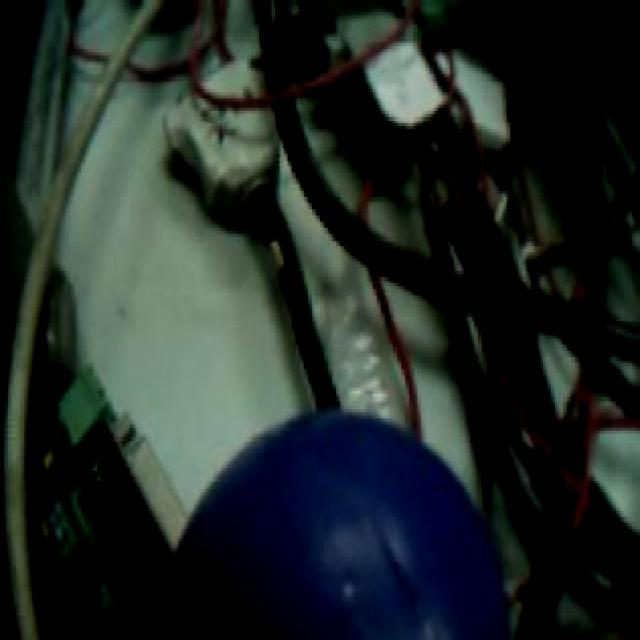BallPurple: (172, 411, 508, 640)
